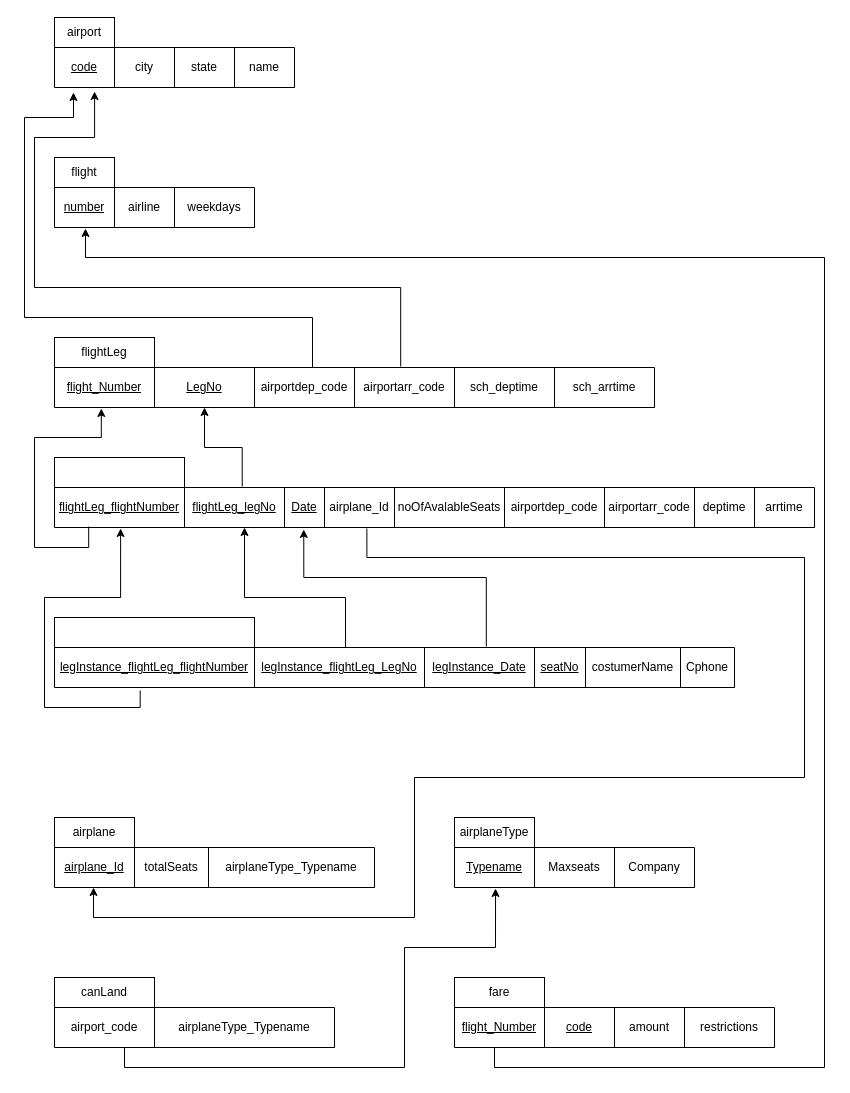
Some shapes in this 850 by 1093 pixel diagram are drawn without their labels. Here are the shapes that lost their labels. From the top down, the centre of each, then its label:
At point (119, 472): "legInstance".
At point (154, 632): "seat".
